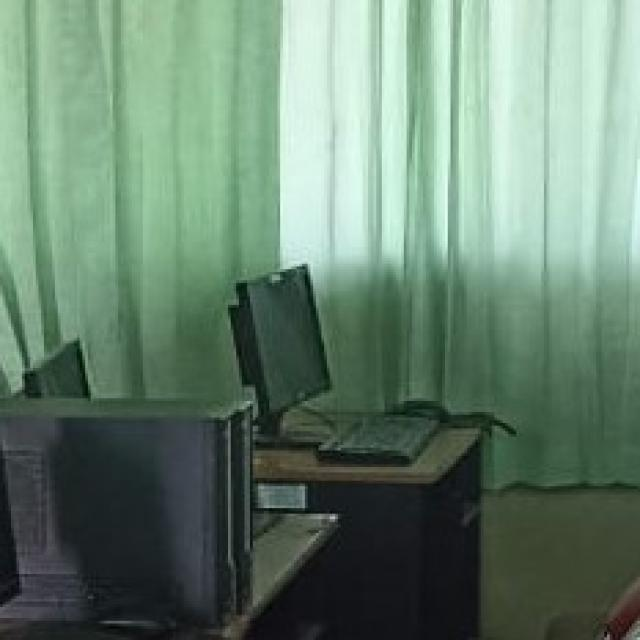offscreen: (240, 262, 332, 440)
